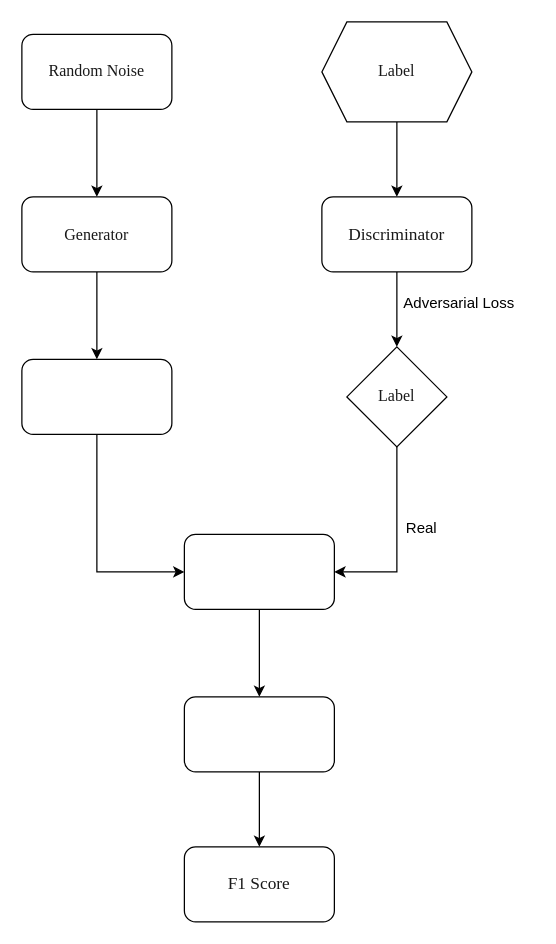
The diagram is 556 pixels wide and 944 high, and some of its shapes have lost their labels. Each missing label, with the centre of its shape:
"Accuracy" goes at point 258,734.
"Classifier" goes at point 258,571.
"Fake Image" goes at point 96,396.
